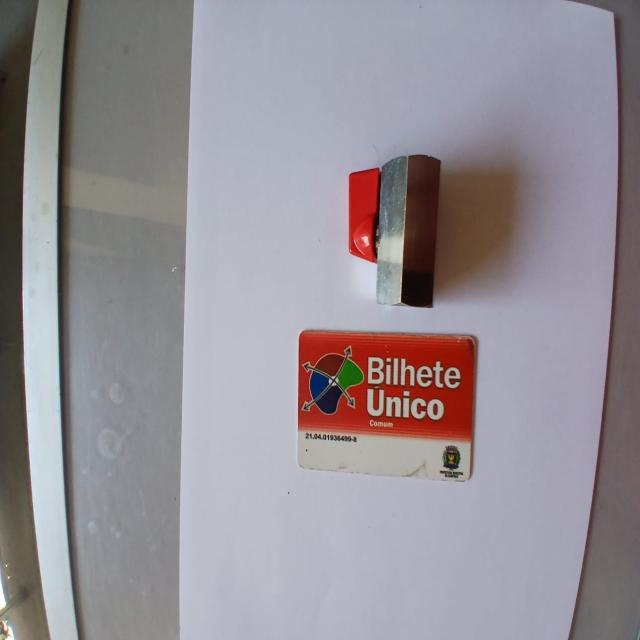cartao: (298, 328, 474, 483)
rosca_interna: (348, 155, 441, 307)
